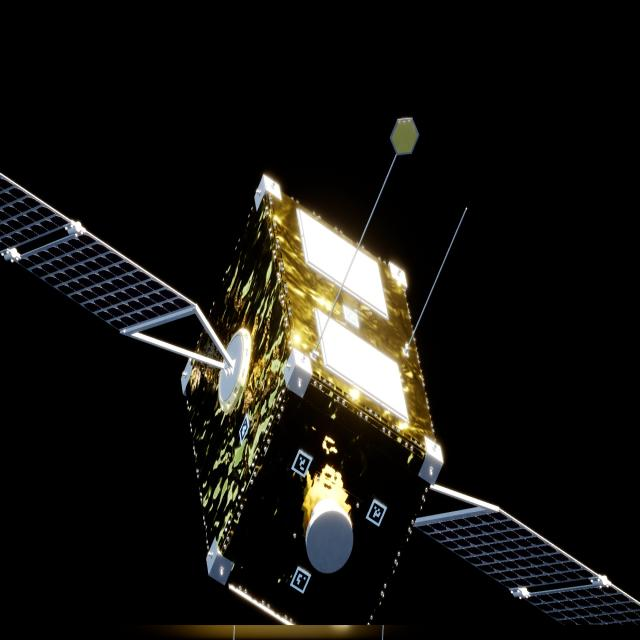medium_debris: (0, 172, 640, 640)
